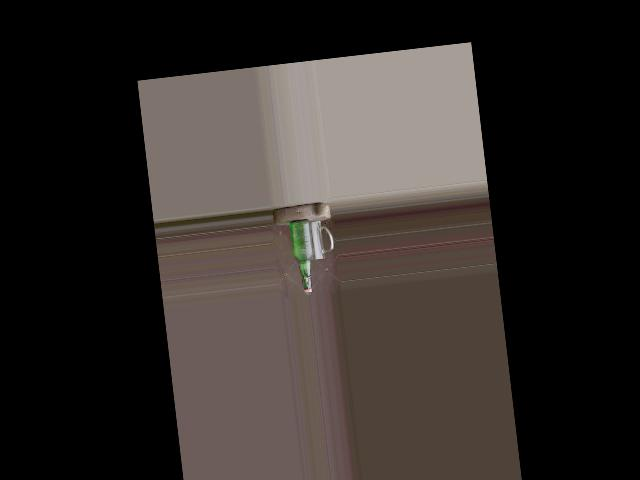beer: (289, 218, 318, 293)
